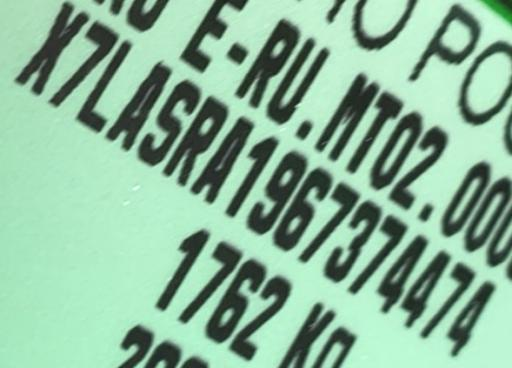letter: (18, 3, 86, 92), (108, 61, 172, 150), (50, 23, 118, 104), (192, 118, 254, 202), (137, 81, 199, 164), (79, 40, 135, 129), (166, 98, 226, 181), (247, 148, 307, 230), (271, 167, 331, 249), (297, 184, 359, 262), (324, 199, 382, 280), (225, 134, 281, 216), (350, 216, 406, 293), (420, 261, 474, 336), (400, 250, 448, 331), (380, 234, 428, 313), (448, 278, 496, 353)
